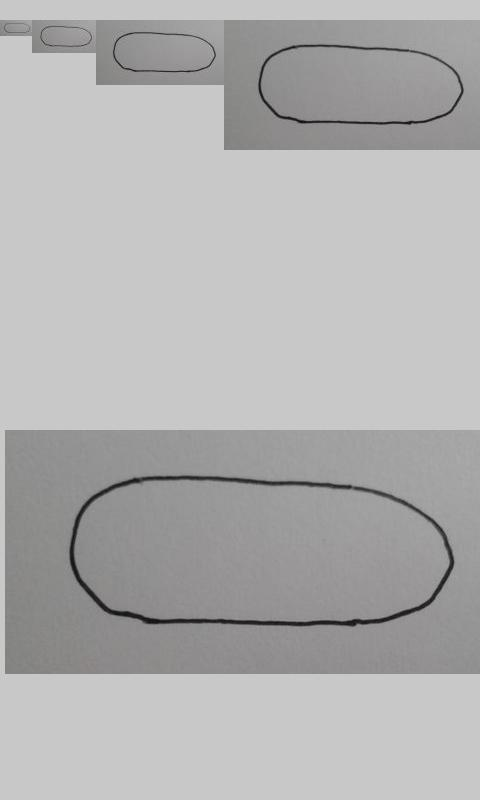chip: (69, 474, 454, 628), (257, 43, 464, 126), (112, 31, 216, 73), (40, 25, 93, 48), (3, 22, 31, 34)
